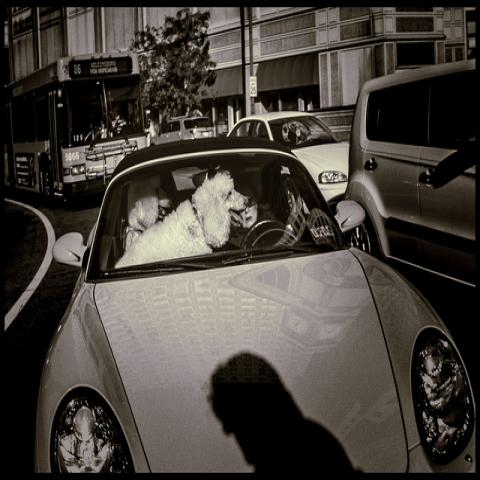bus: (7, 55, 148, 202)
car: (32, 150, 476, 472), (341, 57, 479, 293), (226, 111, 350, 202), (149, 115, 217, 149)
